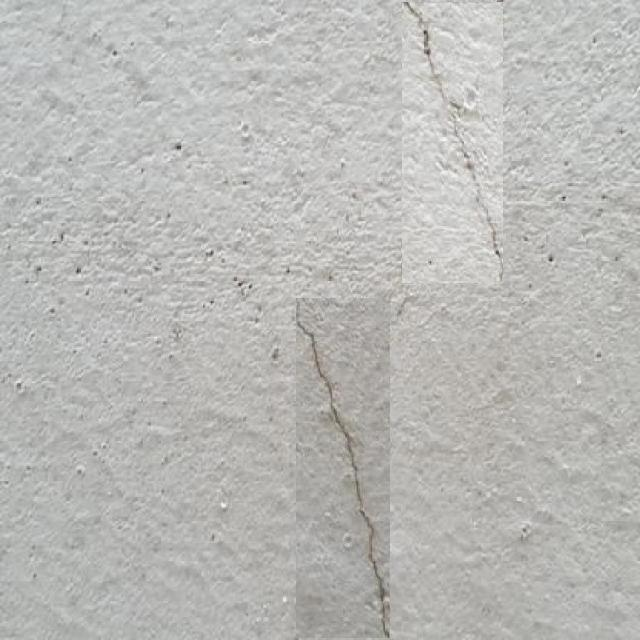Crack: (292, 301, 392, 638), (400, 0, 505, 281)
